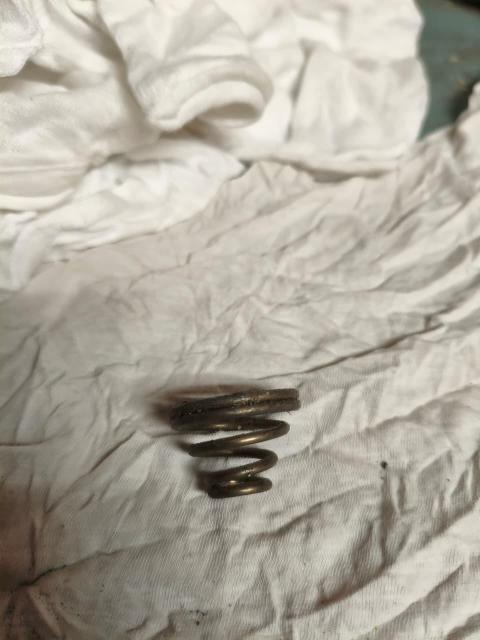Metal: (172, 377, 312, 508)
